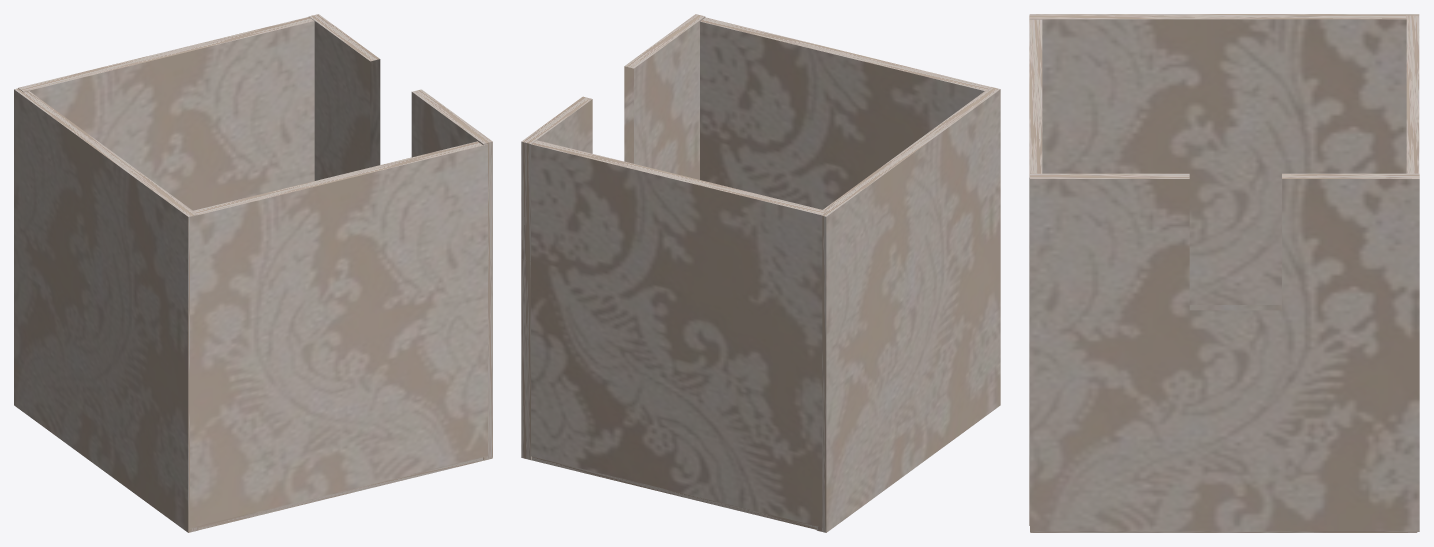
Rendered from cuarto.obj.
The picture shows the model from 3 angles, left to right: view 1: azimuth 30°, elevation 25°; view 2: azimuth 150°, elevation 25°; view 3: azimuth 270°, elevation 25°; orthographic projection. The views are drawn at different scales.
Visible parts, largest first — view 1: pCube3, pCube2, pasted__pCube3 group3, pasted__pCube2 group1, pCube1; view 2: pasted__pCube3 group3, pCube2, pCube3, pasted__pCube2 group1, pCube1; view 3: pasted__pCube2 group1, pCube2, pCube3, pasted__pCube3 group3.
Part boxes in pixels (<box>): pCube3: <box>190,141,487,528</box>; pCube2: <box>14,88,198,532</box>; pasted__pCube3 group3: <box>18,17,314,210</box>; pasted__pCube2 group1: <box>309,14,492,459</box>; pCube1: <box>198,457,492,530</box>; pasted__pCube3 group3: <box>531,140,827,527</box>; pCube2: <box>816,87,1000,532</box>; pCube3: <box>700,17,989,209</box>; pasted__pCube2 group1: <box>521,14,705,459</box>; pCube1: <box>531,456,816,529</box>; pasted__pCube2 group1: <box>1030,173,1419,531</box>; pCube2: <box>1029,14,1419,304</box>; pCube3: <box>1029,15,1042,525</box>; pasted__pCube3 group3: <box>1406,15,1419,173</box>.
Size of the model in its own units: 15.94 by 15.84 by 15.82.
Materials: 3 (3 with a texture image).
